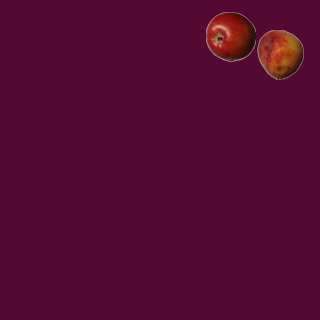Apple Braeburn: (205, 11, 255, 61)
Peach: (255, 29, 305, 79)
